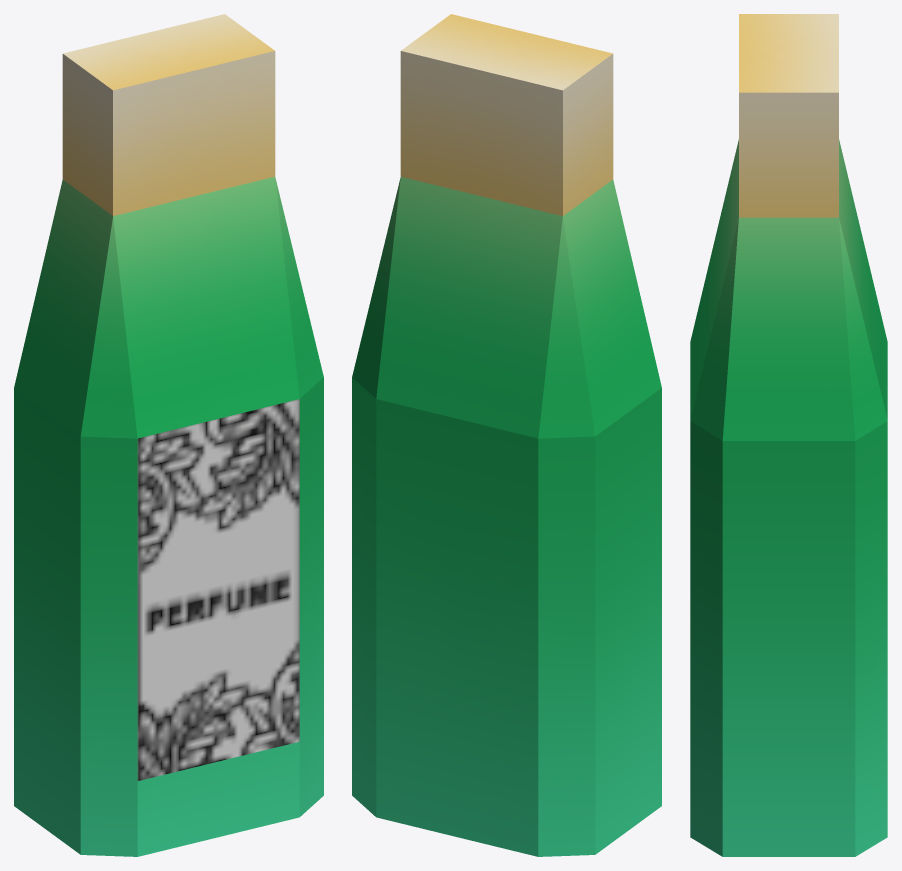
Rendered from giftgoods108f.fbx.
3 views of the same model, side by side, from view 1: azimuth 30°, elevation 25°; view 2: azimuth 150°, elevation 25°; view 3: azimuth 270°, elevation 25° (orthographic).
Visible parts, largest first — view 1: giftgoods108f; view 2: giftgoods108f; view 3: giftgoods108f.
Boxes of the visible parts, box(x1,y1,x2,y2) form: giftgoods108f: box(14, 14, 323, 856); giftgoods108f: box(352, 14, 661, 856); giftgoods108f: box(690, 14, 887, 856).
Bounding box in the file's own units: 0.0443 × 0.1303 × 0.0313.
